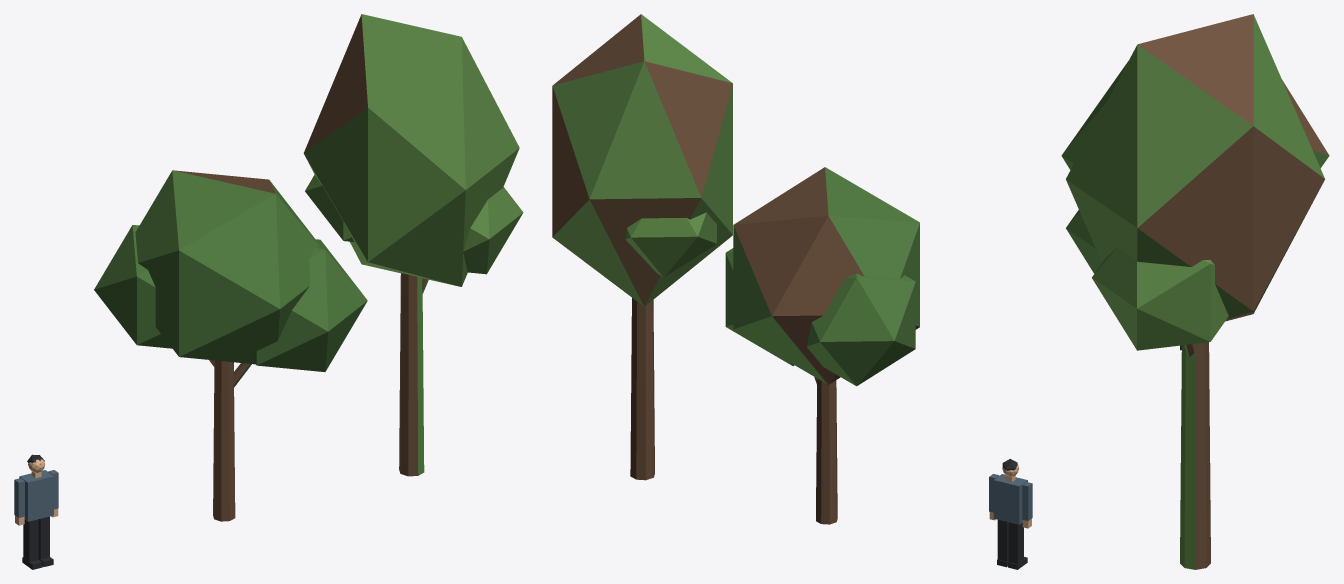
File: props.glb
3 views of the same model, side by side, from view 1: azimuth 30°, elevation 25°; view 2: azimuth 150°, elevation 25°; view 3: azimuth 270°, elevation 25° (orthographic). The views are drawn at different scales.
Visible parts, largest first — view 1: TreeB, TreeA, Passenger; view 2: TreeB, TreeA, Passenger; view 3: TreeB, TreeA.
Boxes of the visible parts, box(x1,y1,x2,y2) form: TreeB: box(303, 14, 523, 476); TreeA: box(94, 170, 367, 521); Passenger: box(14, 454, 58, 569); TreeB: box(552, 14, 732, 480); TreeA: box(725, 167, 919, 524); Passenger: box(989, 459, 1032, 569); TreeB: box(1066, 14, 1324, 569); TreeA: box(1061, 61, 1329, 273).
Bounding box in the file's own units: 7.72 × 6.81 × 3.1.
